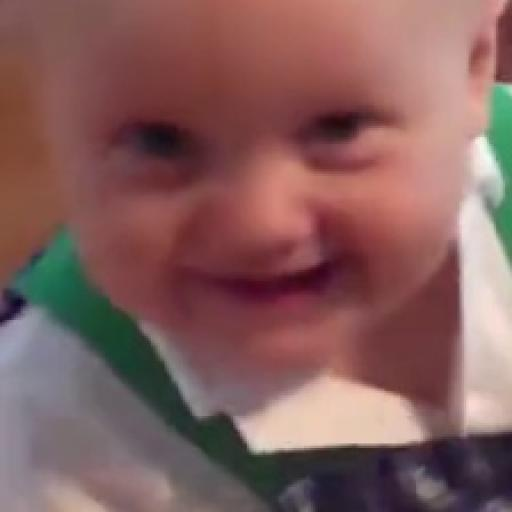Autism: (9, 0, 510, 400)
